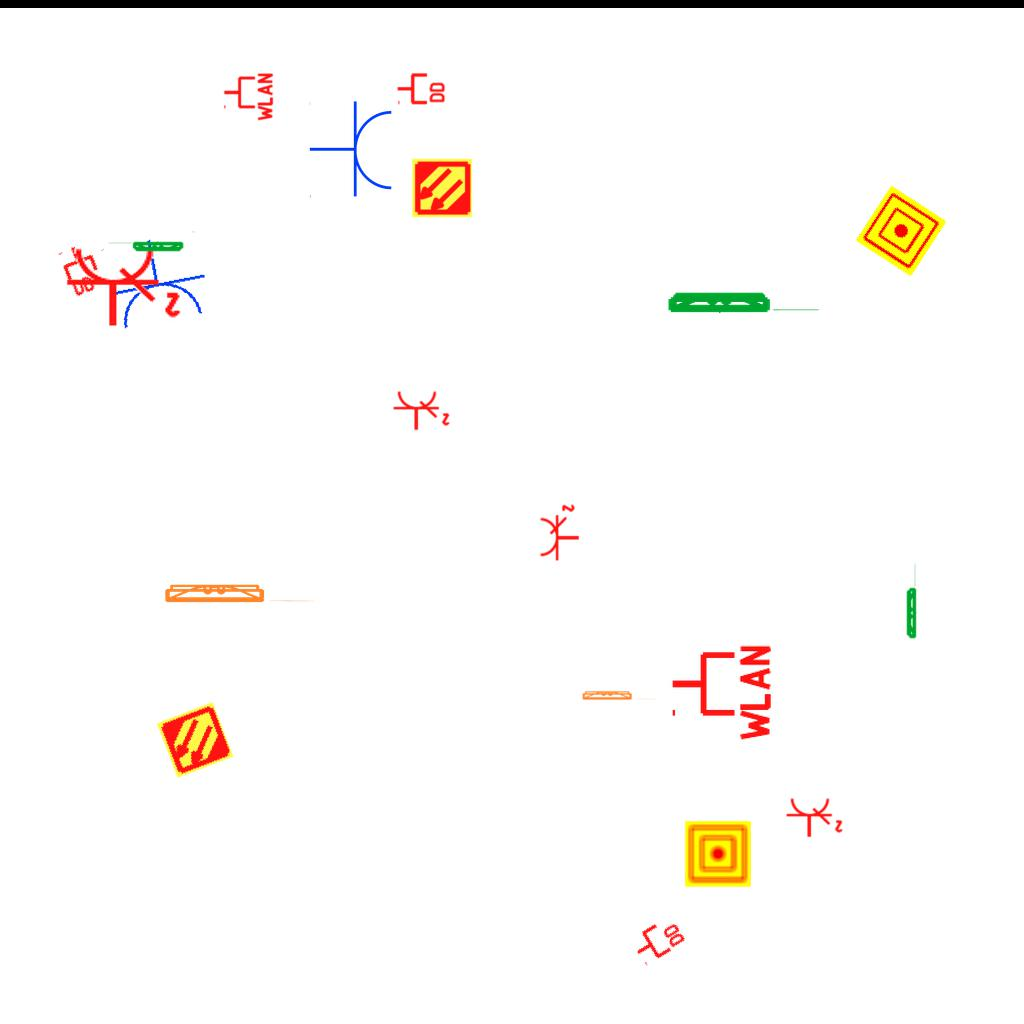ASR_Ansaugrauchmelder: (154, 699, 236, 781), (411, 157, 473, 219)
Datenanschluss_zweifach: (627, 911, 689, 968), (56, 239, 108, 300), (396, 71, 447, 105)
NAM-Nichtautomatischer_Melder: (855, 185, 947, 277), (685, 821, 751, 887)
Schukosteckdose_einfach: (98, 230, 214, 335), (309, 100, 396, 200)
Schukosteckdose_mehrfach: (62, 244, 183, 332), (538, 503, 582, 563), (391, 389, 451, 433), (784, 796, 844, 840)
Sicherheitsleuchte_Wandeinbau: (665, 289, 824, 314), (160, 580, 319, 605), (580, 689, 659, 701), (905, 561, 917, 640), (106, 241, 185, 253)
WLAN: (668, 641, 773, 745), (222, 71, 274, 123)
